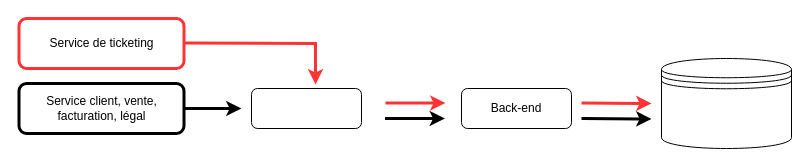
The diagram is 809 pixels wide and 166 high, and some of its shapes have lost their labels. The centre of each missing label's shape, as x and y in pixels:
Base de données: the point at 726,103
Front-end: the point at 306,108
